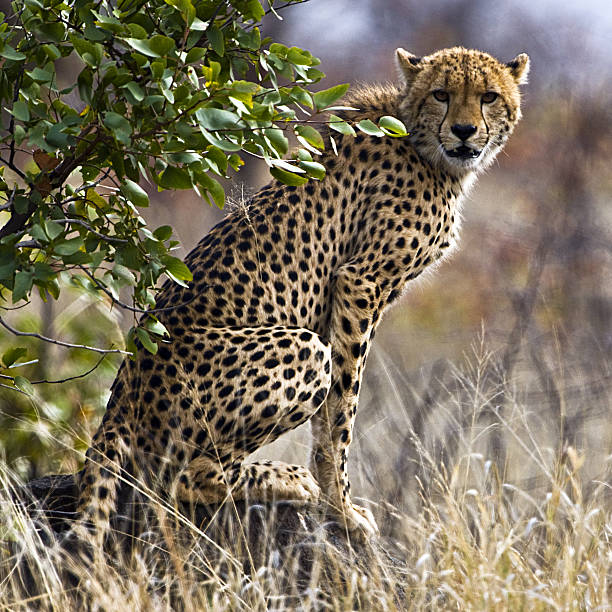cheetah: (390, 31, 542, 185)
